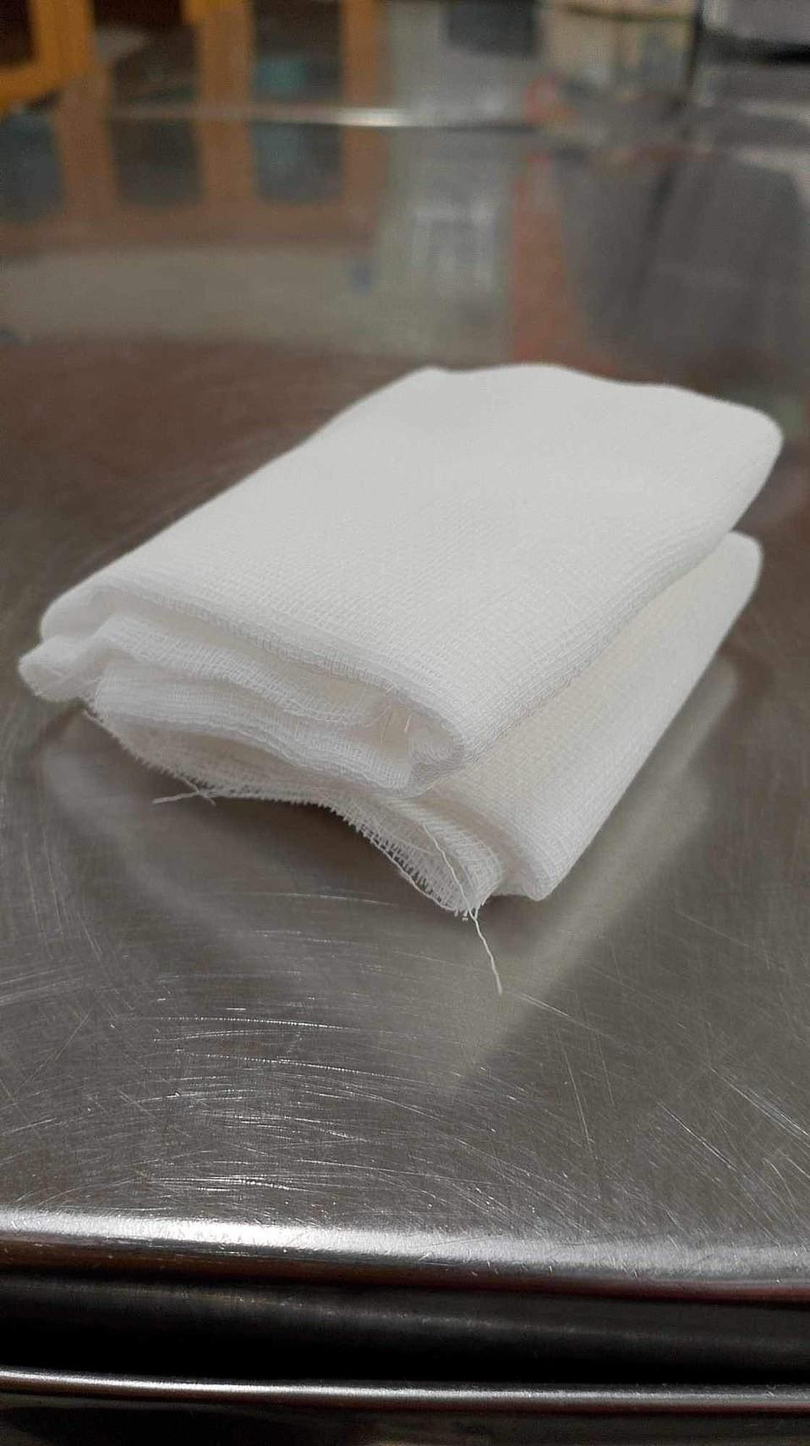General: (5, 8, 804, 1436), (15, 356, 785, 921)
